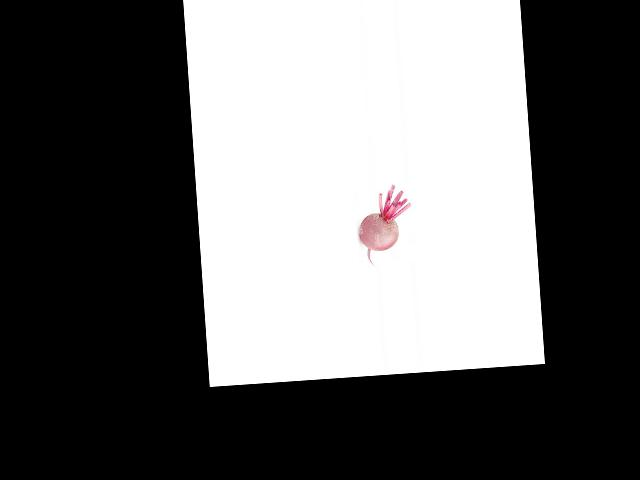beet: (356, 183, 414, 266)
